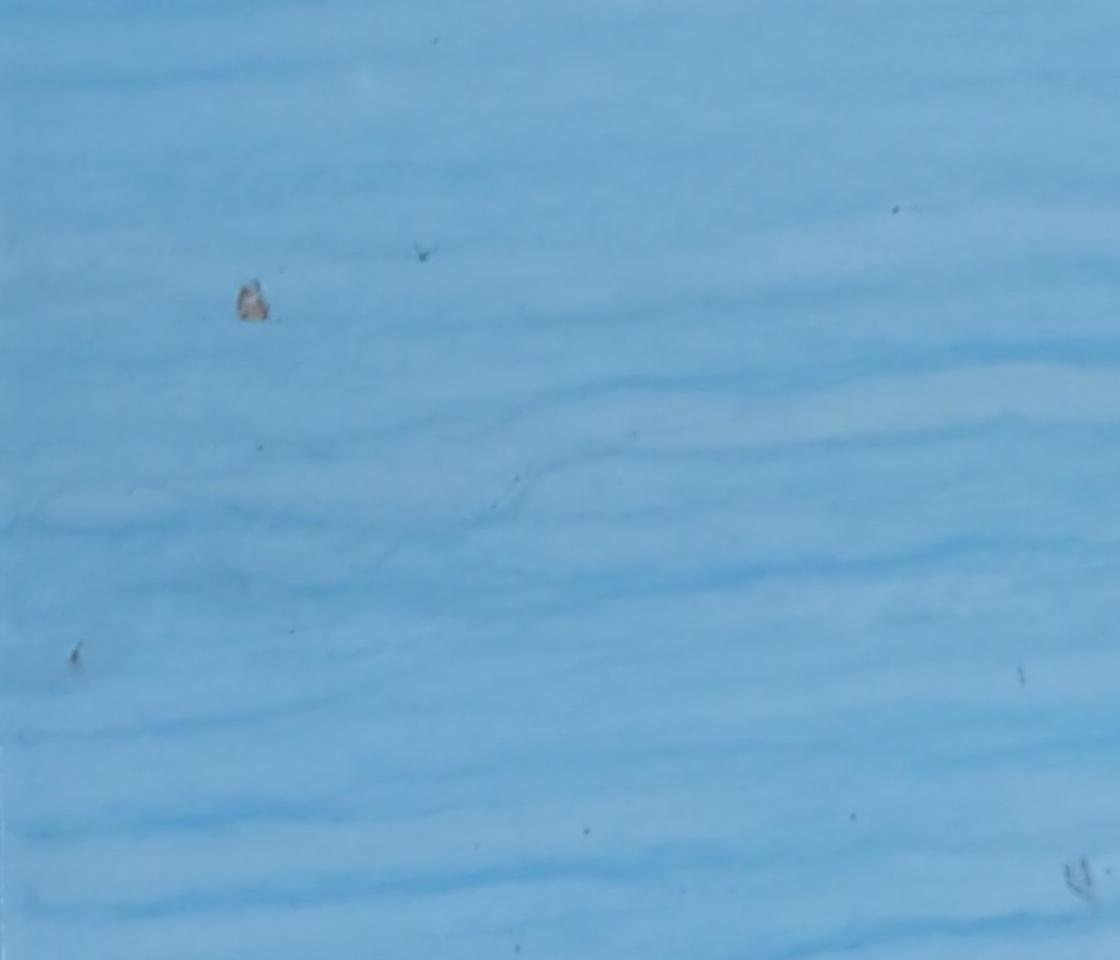paint_peel: (220, 274, 285, 334)
